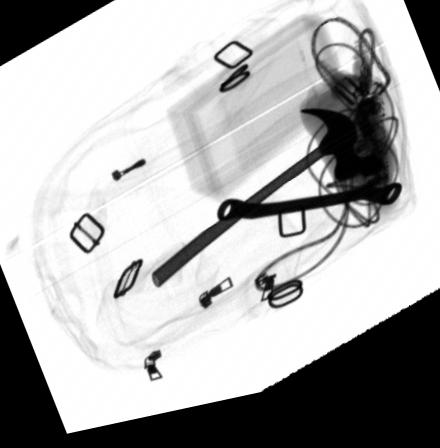Hammer: (153, 121, 362, 295)
Wrench: (216, 200, 402, 231)
